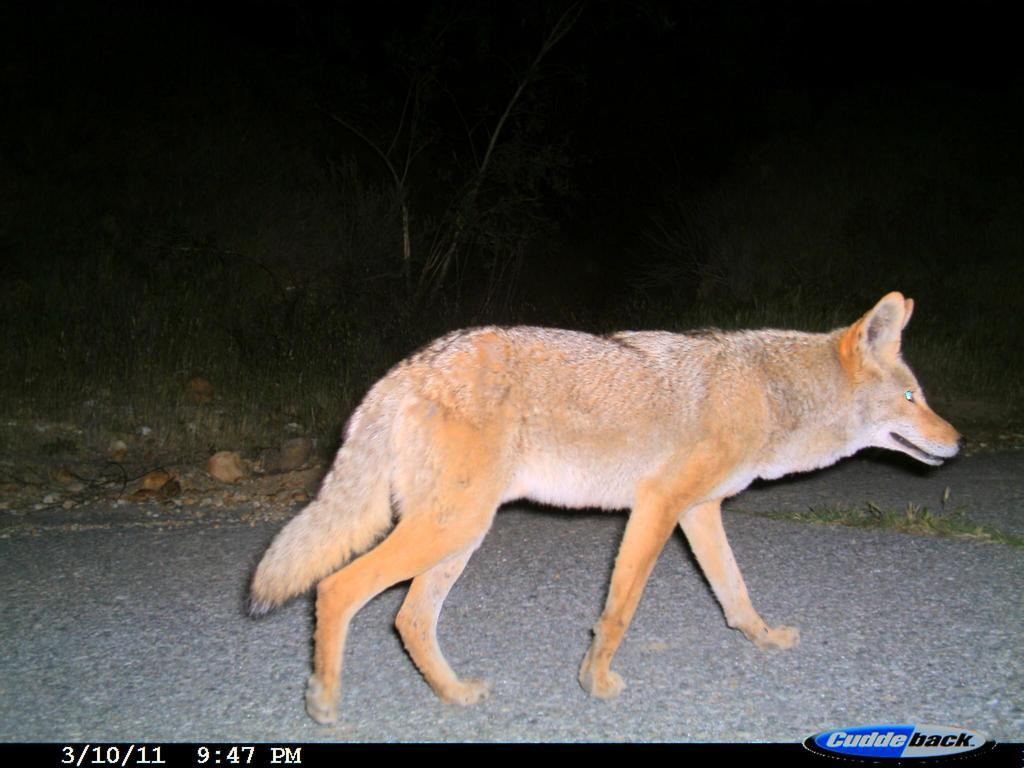coyote: (235, 276, 986, 715)
